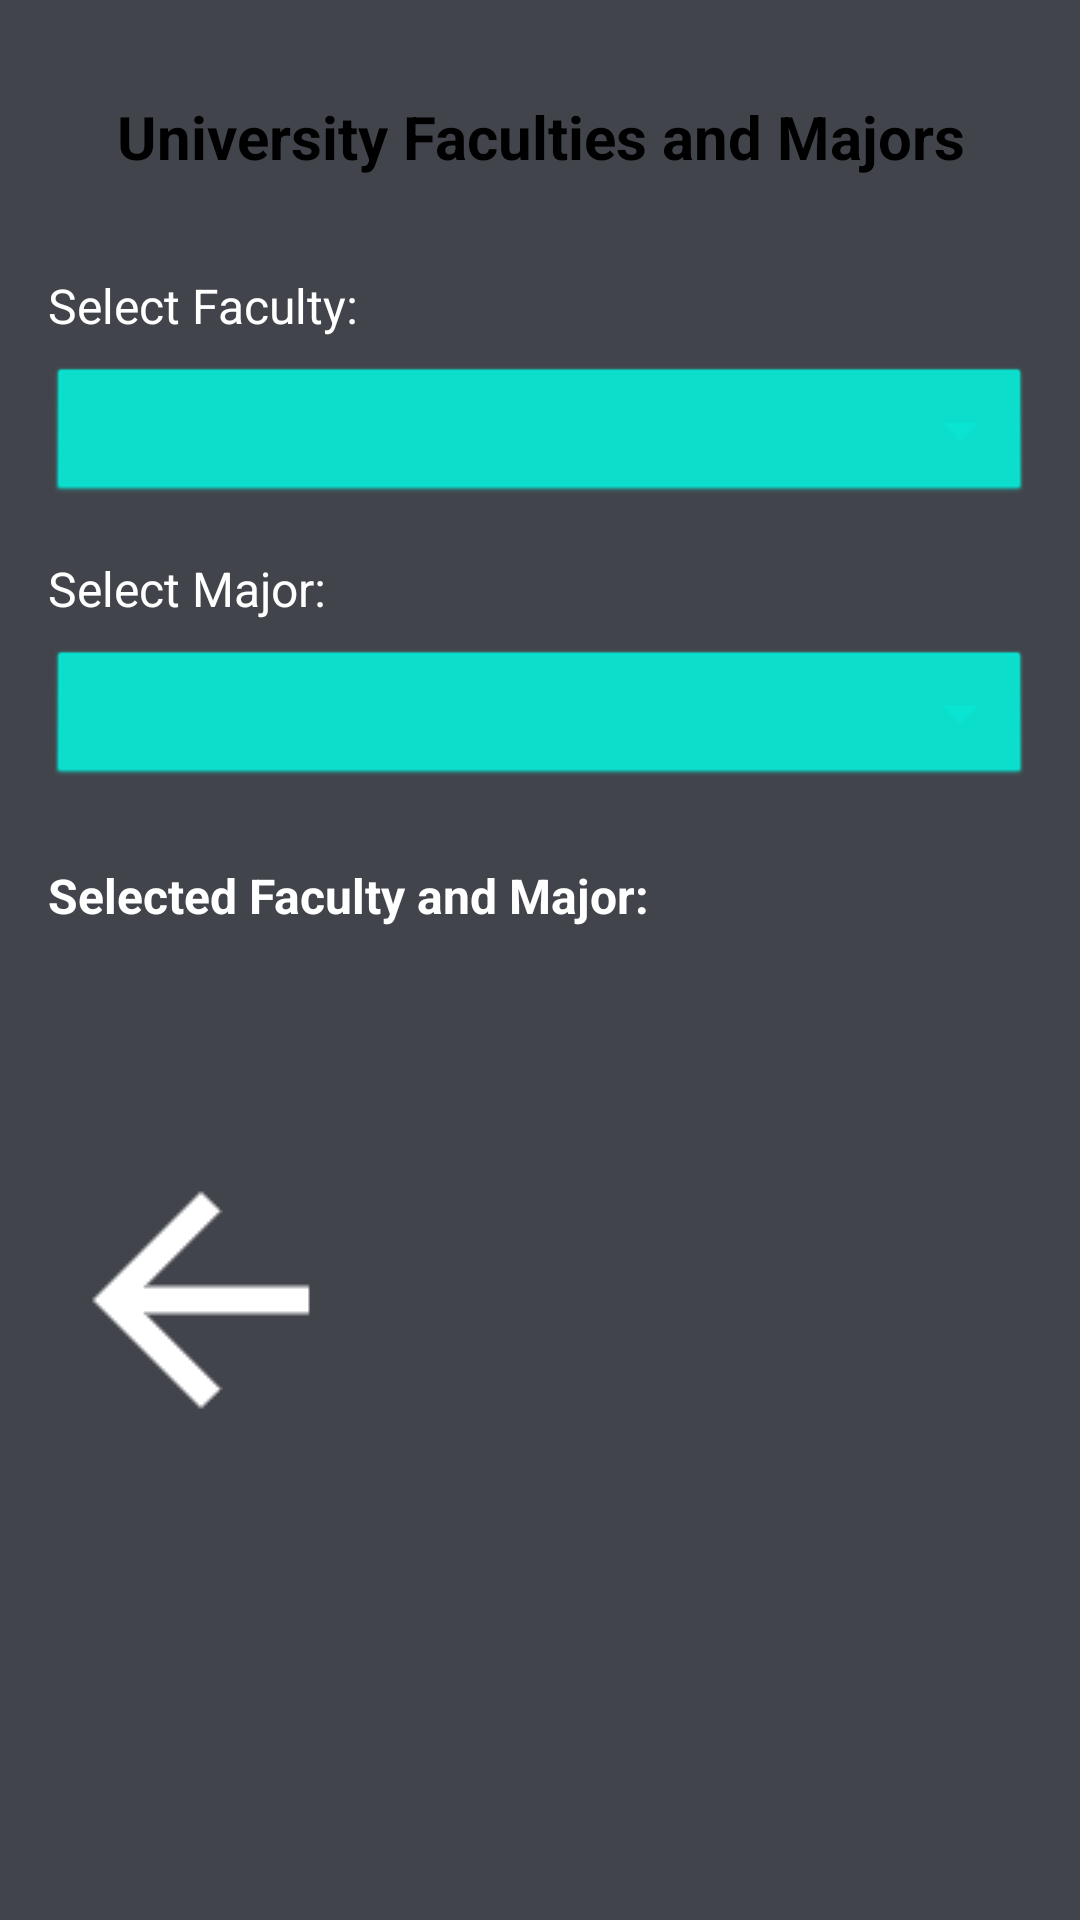

Where icons sit on this 1080*1920 app screen, as rect(x1, y1, x2, y2):
partielback: rect(92, 1191, 310, 1409)
